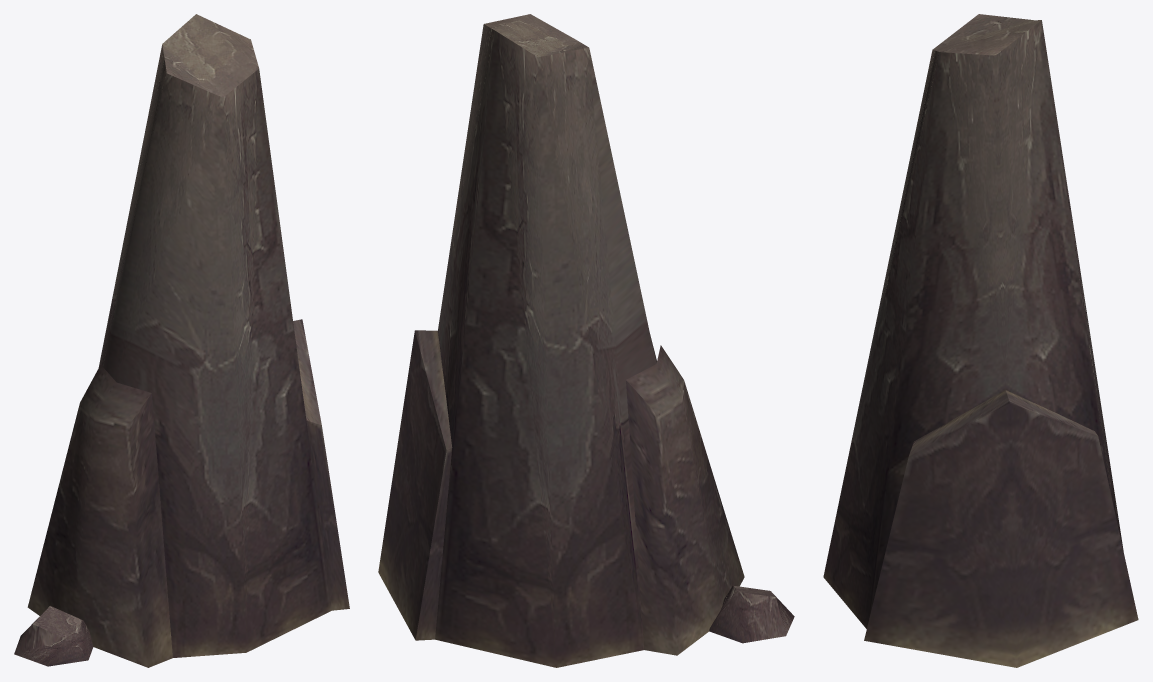
Rendered from yw_shibalipo_suishi01.FBX.
3 renders of one model, left to right at view 1: azimuth 30°, elevation 25°; view 2: azimuth 150°, elevation 25°; view 3: azimuth 270°, elevation 25°, orthographic. The views are drawn at different scales.
Parts seen in each view (by area): view 1: yw_shibalipo_suishi01; view 2: yw_shibalipo_suishi01; view 3: yw_shibalipo_suishi01.
Part boxes in pixels (left/top/right/bottom): yw_shibalipo_suishi01: left=14, top=14, right=349, bottom=667; yw_shibalipo_suishi01: left=378, top=14, right=794, bottom=667; yw_shibalipo_suishi01: left=823, top=14, right=1138, bottom=667.
Size of the model in its own units: 376 by 564 by 276.
